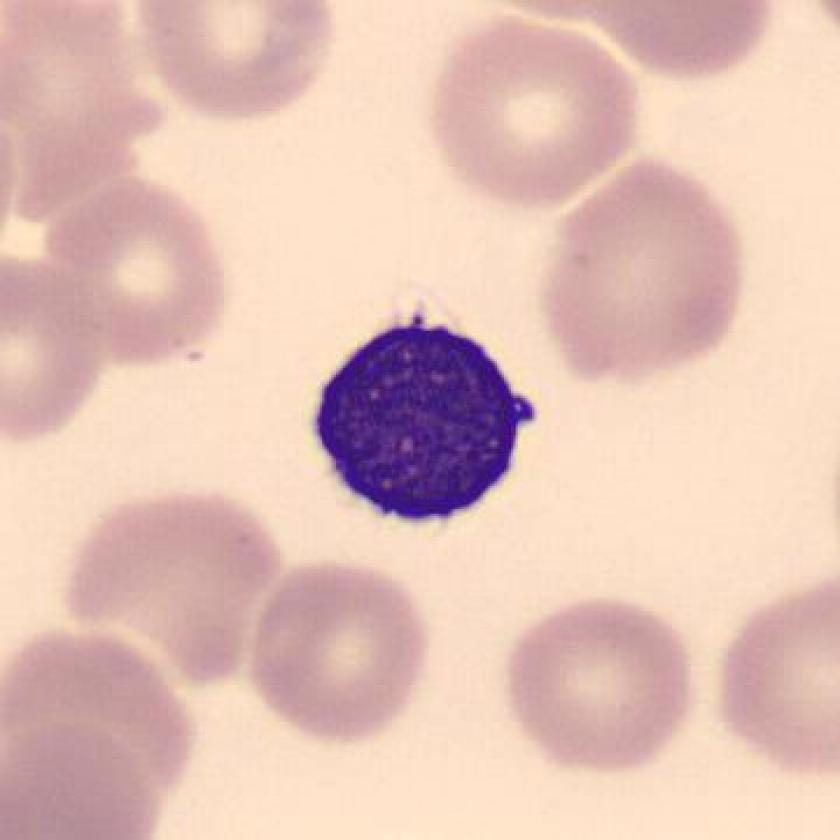lymphocyte: (298, 304, 550, 540)
